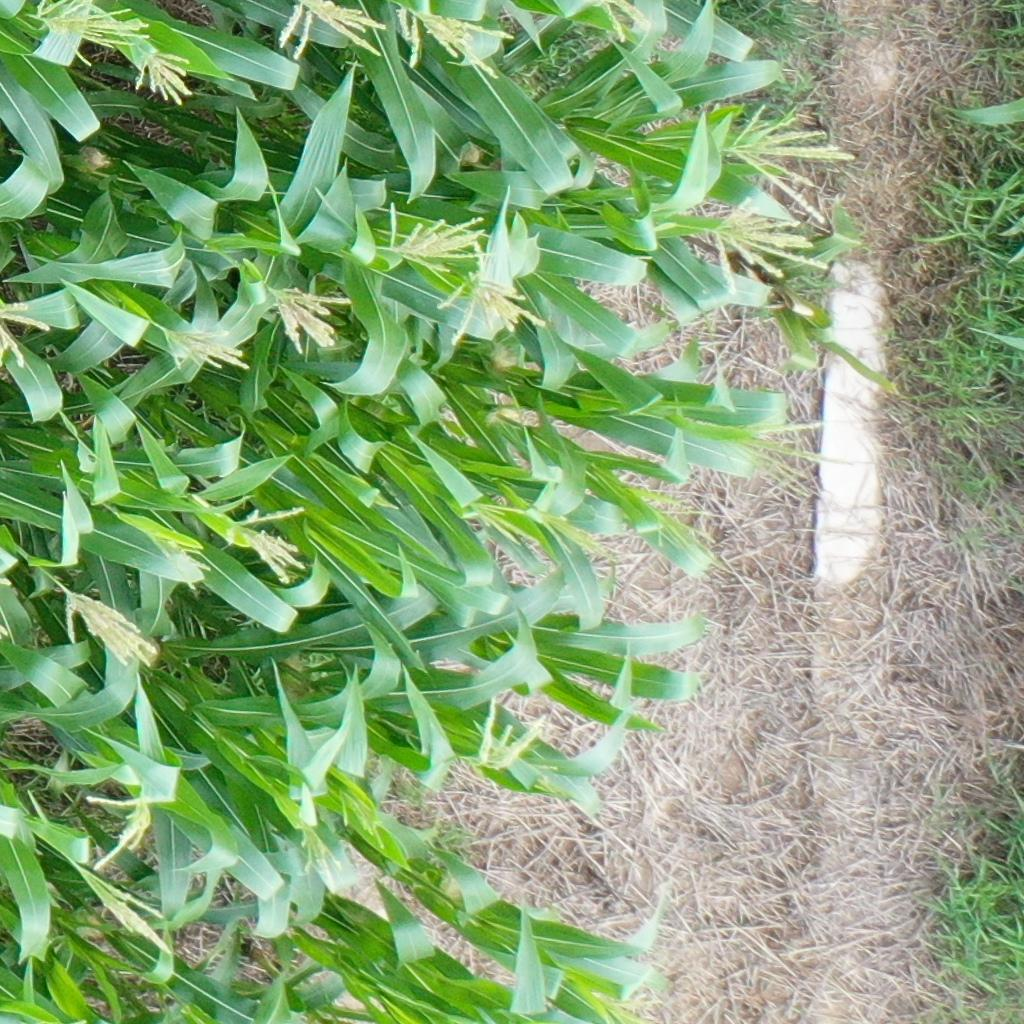Tassel: (726, 100, 856, 227), (438, 232, 551, 350), (721, 406, 859, 501), (711, 195, 832, 299), (396, 1, 514, 79), (62, 590, 164, 672), (27, 1, 150, 68), (383, 199, 491, 273), (225, 498, 312, 587), (265, 275, 356, 358), (277, 1, 389, 61), (636, 484, 720, 562), (91, 878, 174, 956), (465, 698, 545, 778), (82, 794, 154, 872), (161, 324, 260, 377), (130, 34, 194, 107), (538, 500, 613, 559), (1, 295, 56, 369), (292, 823, 343, 895), (154, 533, 212, 594), (468, 498, 539, 547), (338, 781, 388, 848), (594, 1, 652, 46), (594, 992, 669, 1024)
